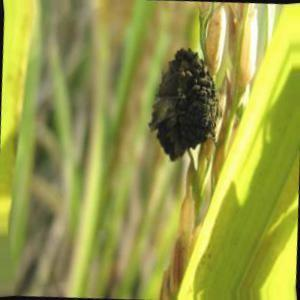Leaf_Scald: (150, 54, 210, 164)
